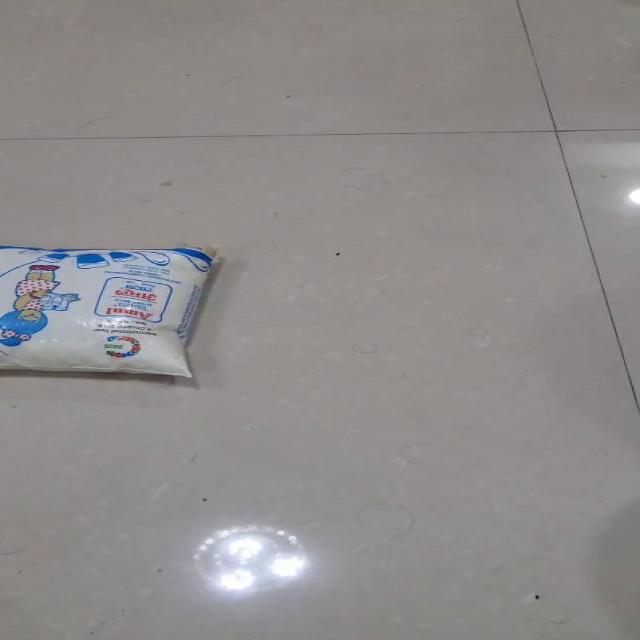plastic: (0, 244, 220, 378)
